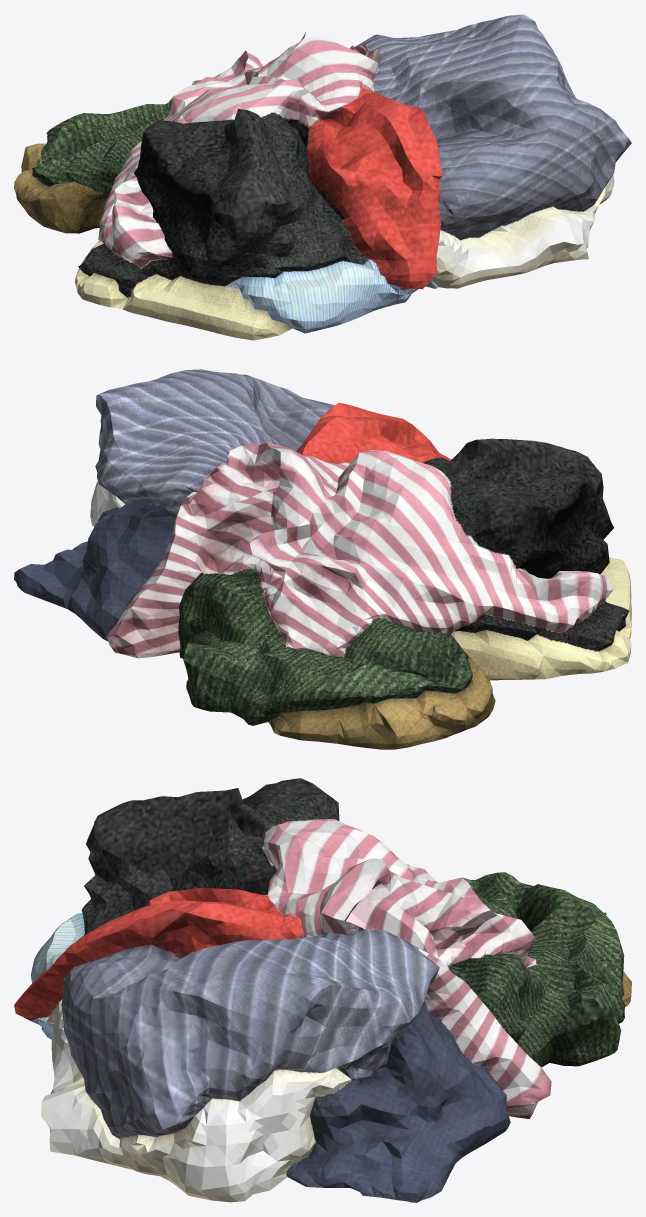
File: sweethome3d-scopia-clothes-heap.glb
The picture shows the model from 3 angles, top to bottom: view 1: azimuth 30°, elevation 25°; view 2: azimuth 150°, elevation 25°; view 3: azimuth 270°, elevation 25°; orthographic projection. The views are drawn at different scales.
Parts seen in each view (by area): view 1: vetements_Exported-from-instant-Meshes; view 2: vetements_Exported-from-instant-Meshes; view 3: vetements_Exported-from-instant-Meshes.
Part boxes in pixels (x1=…): vetements_Exported-from-instant-Meshes: x1=14, y1=14, x2=631, y2=340; vetements_Exported-from-instant-Meshes: x1=14, y1=369, x2=631, y2=749; vetements_Exported-from-instant-Meshes: x1=14, y1=778, x2=631, y2=1202.
Bounding box in the file's own units: 122 × 37.67 × 104.
11 materials, 10 textured.
